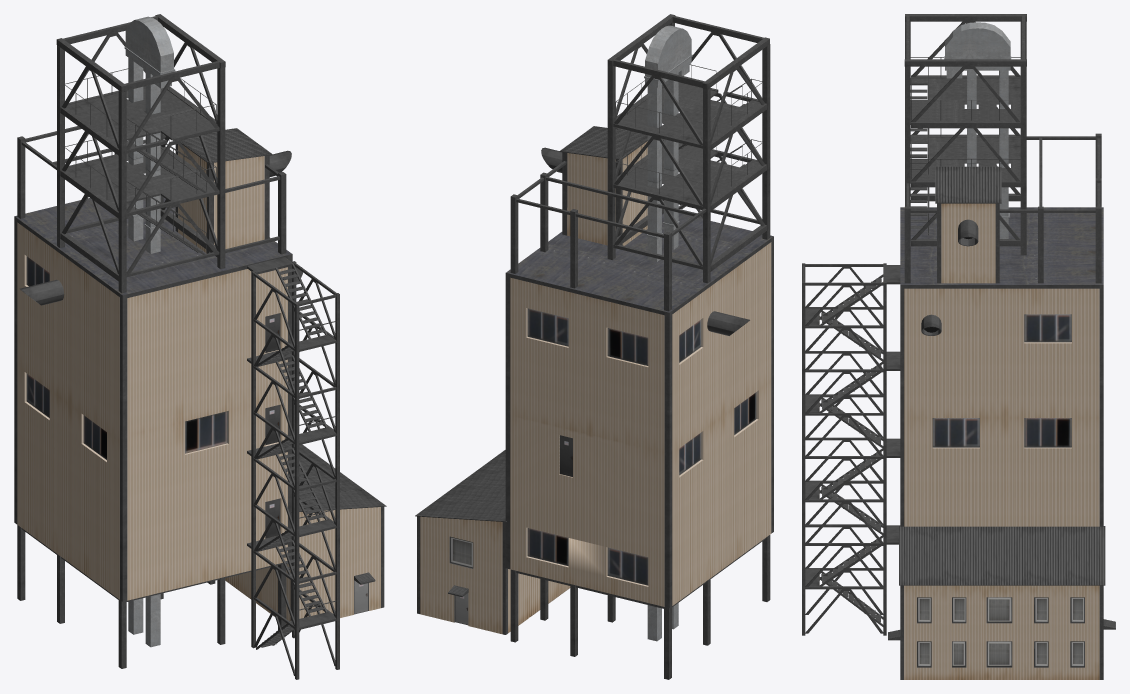
The model's file is plant-building6.glb.
3 views of the same model, side by side, from view 1: azimuth 30°, elevation 25°; view 2: azimuth 150°, elevation 25°; view 3: azimuth 270°, elevation 25° (orthographic). The views are drawn at different scales.
Visible parts, largest first — view 1: Object8932194; view 2: Object8932194; view 3: Object8932194.
Part boxes in pixels (x1,y1,x2,y2): Object8932194: (14,14,386,679); Object8932194: (415,14,773,679); Object8932194: (802,14,1115,679).
Size of the model in its own units: 19.74 by 38.82 by 18.96.
Materials: 1 (1 with a texture image).
